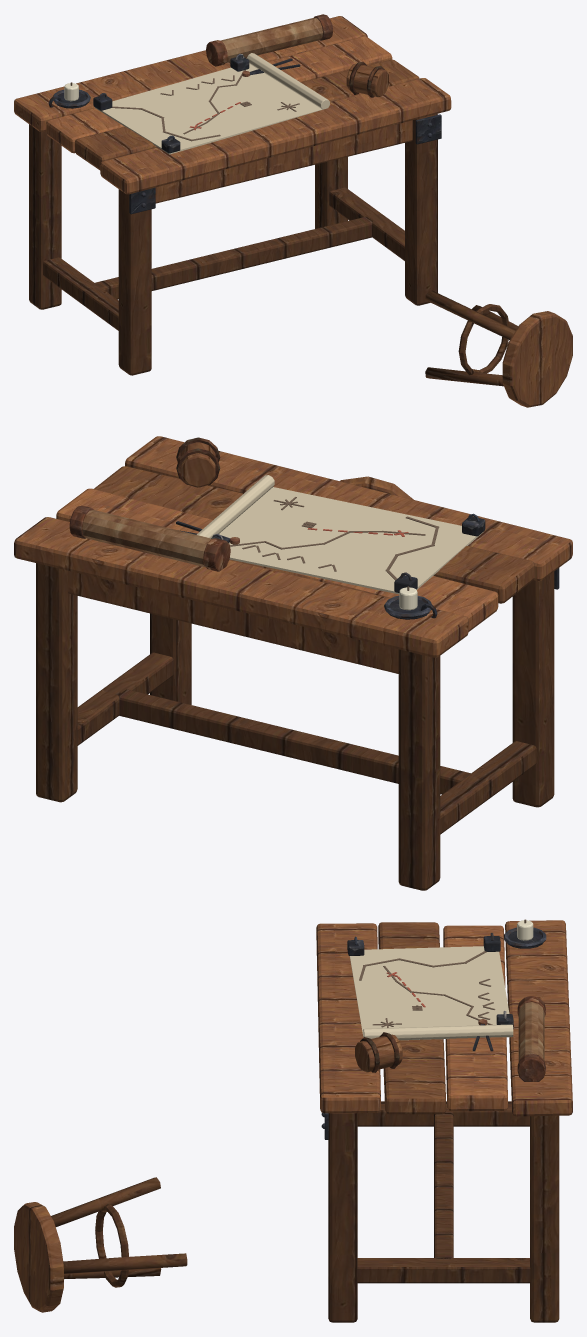
Rendered from rt_watch_table_map.glb.
3 renders of one model, top to bottom at view 1: azimuth 30°, elevation 25°; view 2: azimuth 150°, elevation 25°; view 3: azimuth 270°, elevation 25°, orthographic. The views are drawn at different scales.
Parts seen in each view (by area): view 1: model; view 2: model; view 3: model.
Part boxes in pixels (x1=…): model: x1=14, y1=14, x2=572, y2=407; model: x1=14, y1=436, x2=572, y2=890; model: x1=14, y1=919, x2=572, y2=1322.
Size of the model in its own units: 1.33 by 0.887 by 1.72.
13 materials, 9 textured.
